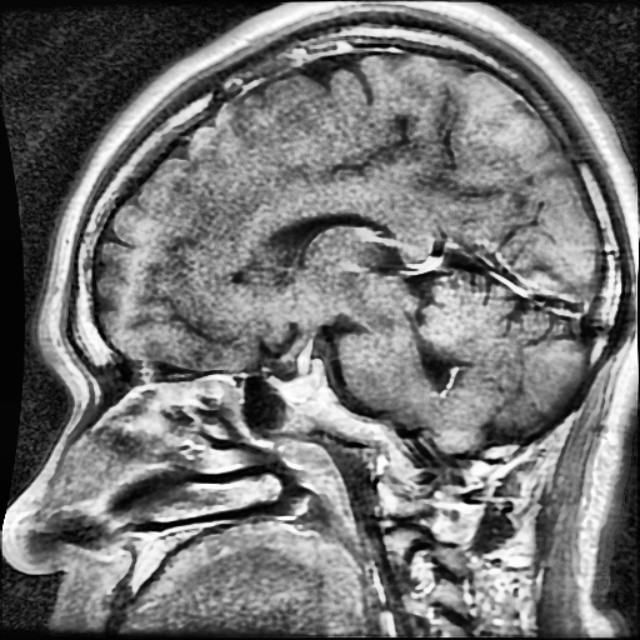Pituitary: (269, 358, 324, 400)
